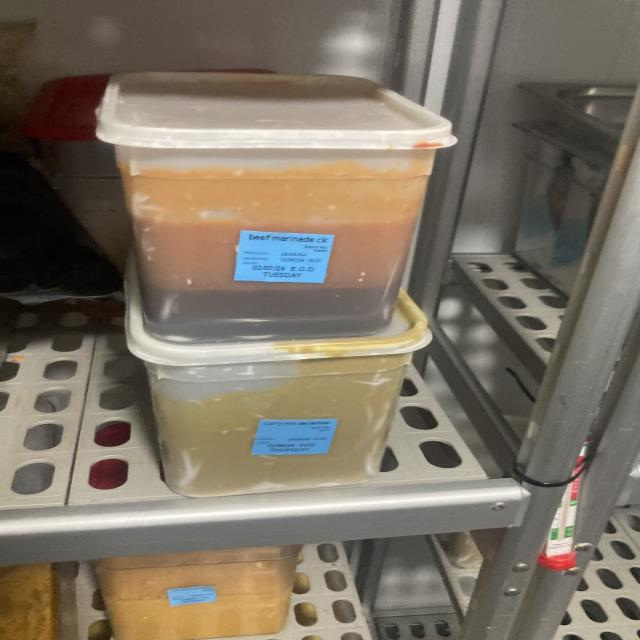product-labels: (234, 230, 337, 286), (252, 418, 341, 457), (163, 585, 222, 607)
